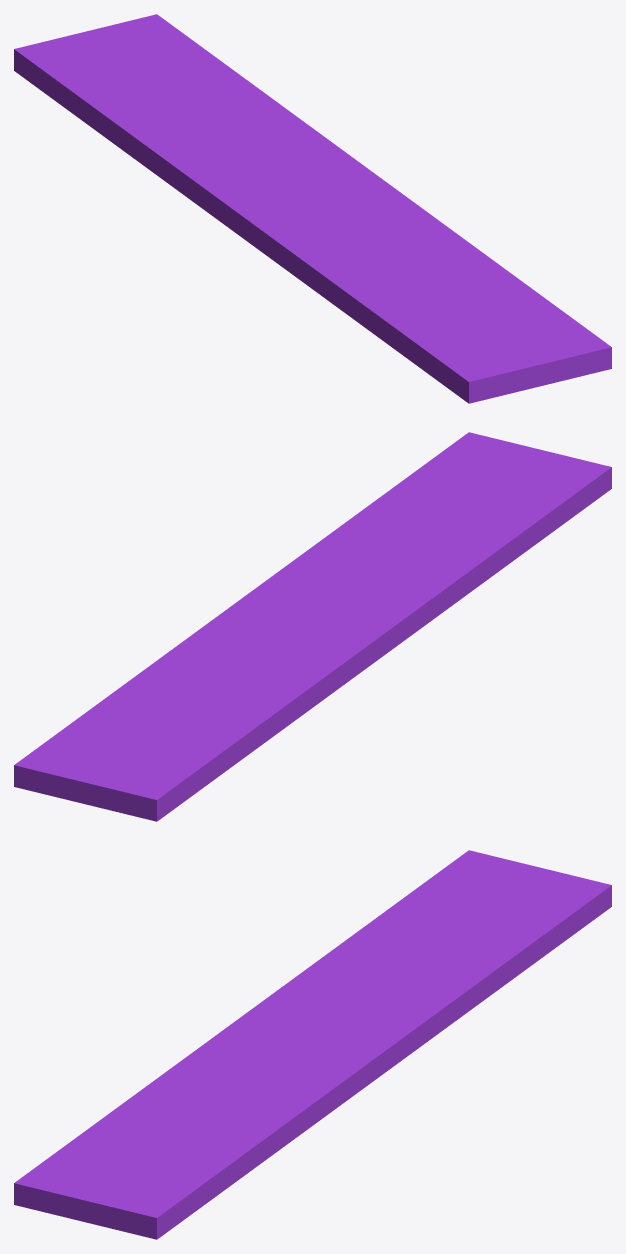
File: StairsStep_65_chunks.fbx
3 renders of one model, top to bottom at view 1: azimuth 30°, elevation 25°; view 2: azimuth 150°, elevation 25°; view 3: azimuth 330°, elevation 25°, orthographic.
Parts seen in each view (by area): view 1: StairsStep_65_3, StairsStep_65_8, StairsStep_65_11, StairsStep_65_12, StairsStep_65_1, StairsStep_65_4, StairsStep_65_7, StairsStep_65_6, StairsStep_65_9, StairsStep_65_10; view 2: StairsStep_65_3, StairsStep_65_8, StairsStep_65_12, StairsStep_65_11, StairsStep_65_1, StairsStep_65_4, StairsStep_65_7, StairsStep_65_6, StairsStep_65_9, StairsStep_65_10; view 3: StairsStep_65_3, StairsStep_65_8, StairsStep_65_1, StairsStep_65_11, StairsStep_65_12, StairsStep_65_7, StairsStep_65_4, StairsStep_65_6, StairsStep_65_9.
Part boxes in pixels (box(x1,y1,x2,y2)): StairsStep_65_3: box(14, 14, 276, 158); StairsStep_65_8: box(407, 258, 611, 394); StairsStep_65_11: box(357, 272, 516, 396); StairsStep_65_12: box(217, 195, 403, 286); StairsStep_65_1: box(226, 102, 362, 196); StairsStep_65_4: box(128, 132, 280, 214); StairsStep_65_7: box(344, 164, 490, 258); StairsStep_65_6: box(317, 177, 430, 273); StairsStep_65_9: box(309, 268, 376, 334); StairsStep_65_10: box(375, 332, 514, 403); StairsStep_65_3: box(14, 677, 277, 821); StairsStep_65_8: box(349, 432, 563, 543); StairsStep_65_12: box(306, 546, 456, 659); StairsStep_65_11: box(419, 455, 611, 559); StairsStep_65_1: box(134, 614, 325, 680); StairsStep_65_4: box(225, 628, 363, 731); StairsStep_65_7: box(220, 520, 376, 615); StairsStep_65_6: box(255, 543, 420, 615); StairsStep_65_9: box(452, 547, 519, 605); StairsStep_65_10: box(518, 482, 611, 557); StairsStep_65_3: box(355, 850, 611, 994); StairsStep_65_8: box(51, 1106, 277, 1239); StairsStep_65_1: box(300, 970, 492, 1056); StairsStep_65_11: box(14, 1090, 207, 1197); StairsStep_65_12: box(169, 999, 319, 1103); StairsStep_65_7: box(248, 1035, 406, 1155); StairsStep_65_4: box(265, 933, 400, 1021); StairsStep_65_6: box(204, 1034, 370, 1107); StairsStep_65_9: box(124, 1069, 170, 1102).
Size of the model in its own units: 200 by 28.98 by 1102.
